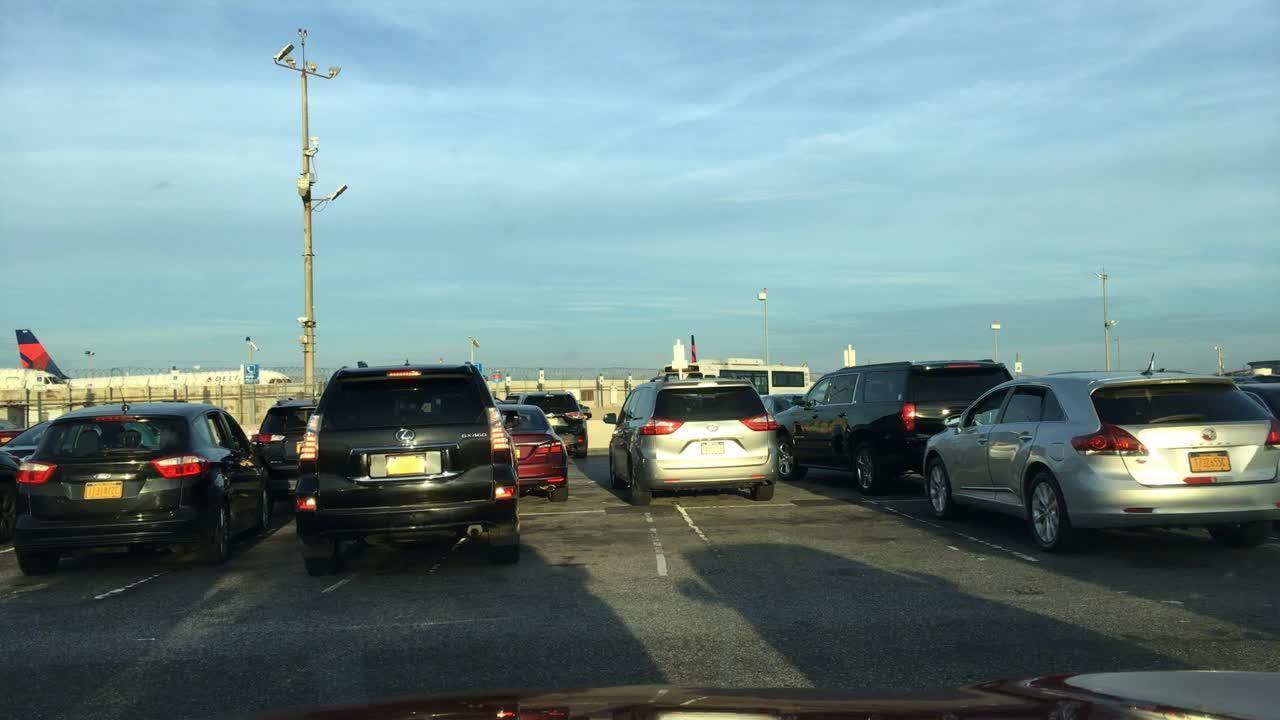ford: (92, 470, 114, 482)
lexus: (390, 424, 420, 444)
